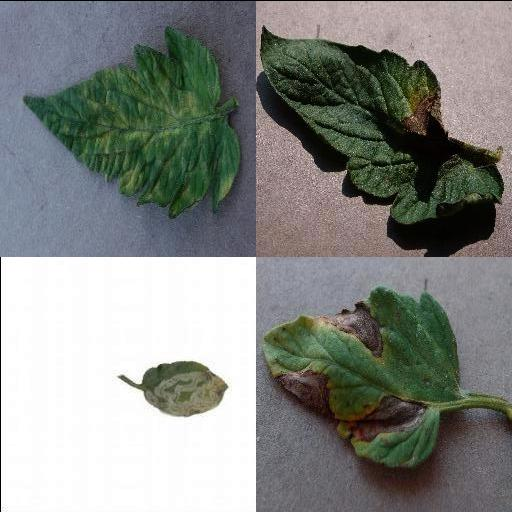Early Blight: (264, 287, 462, 467)
Late Blight: (259, 24, 507, 224)
Leaf Miner: (140, 362, 228, 419)
Leaf Mold: (22, 22, 238, 216)
